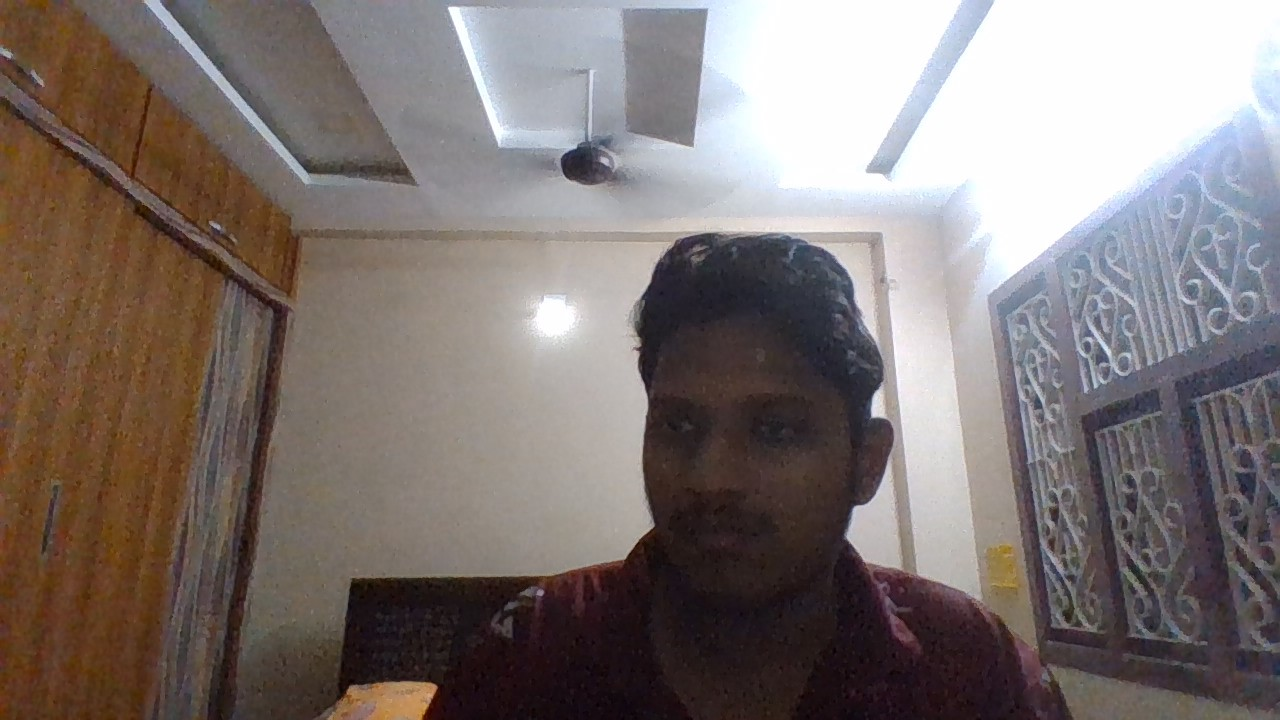person: (397, 104, 1160, 720)
